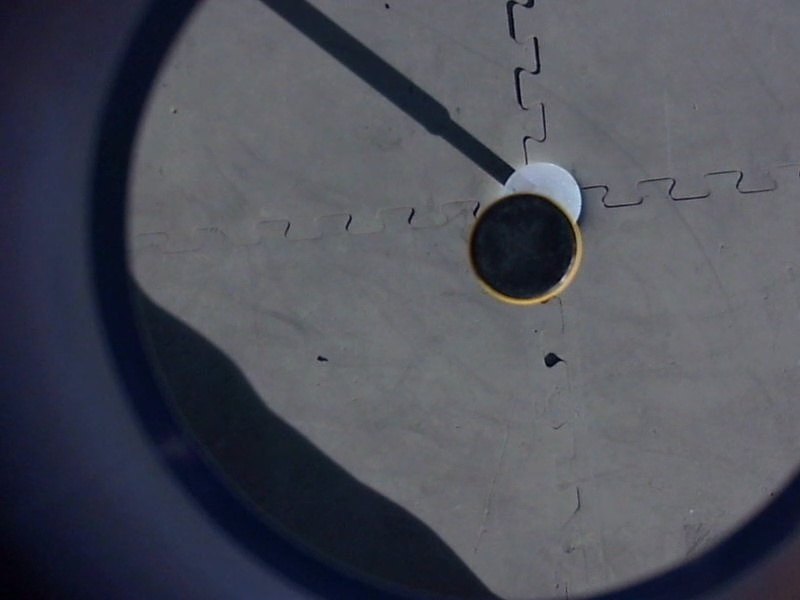tip: (464, 189, 587, 312)
